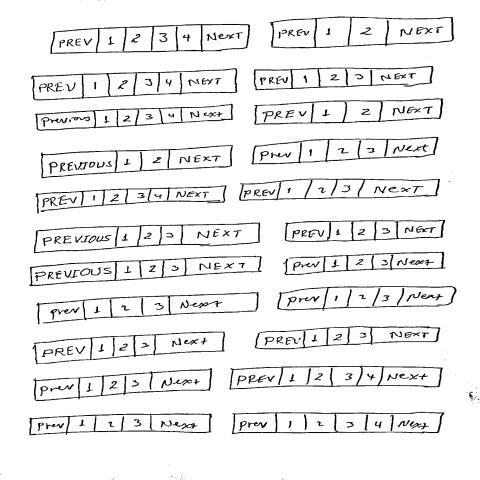Pagination: (37, 292, 261, 326), (29, 256, 263, 288), (33, 223, 262, 255), (31, 68, 239, 102), (33, 331, 226, 367), (41, 145, 234, 180), (49, 24, 251, 56), (34, 368, 214, 403), (270, 16, 455, 50), (35, 104, 235, 133), (251, 137, 439, 166), (228, 366, 445, 391), (36, 186, 228, 214), (253, 99, 444, 126), (231, 412, 444, 436), (239, 178, 441, 202), (277, 286, 457, 312), (255, 326, 442, 351), (253, 67, 435, 92), (28, 413, 214, 437), (284, 219, 446, 244), (283, 252, 447, 276)
